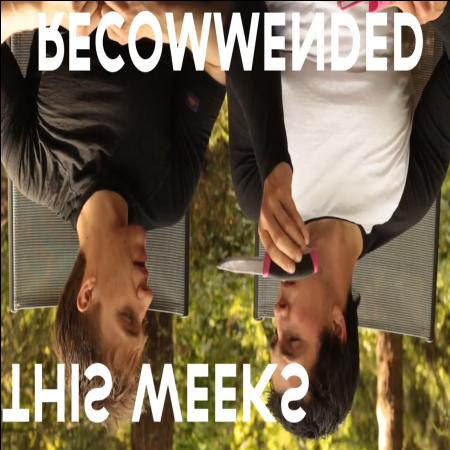long weapon: (208, 238, 323, 288)
